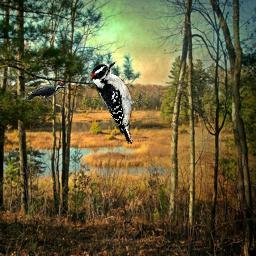Woodpecker: (90, 61, 151, 144), (22, 81, 68, 100)
